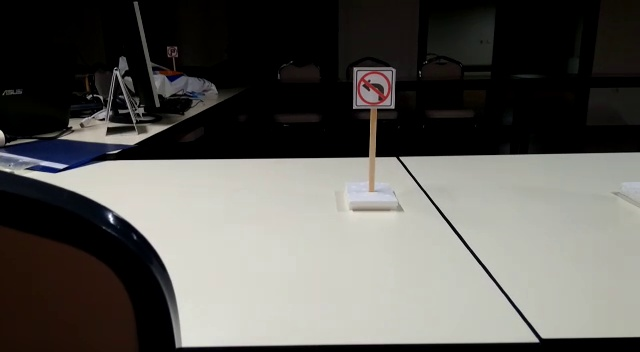sola_donulmez: (352, 62, 395, 111)
